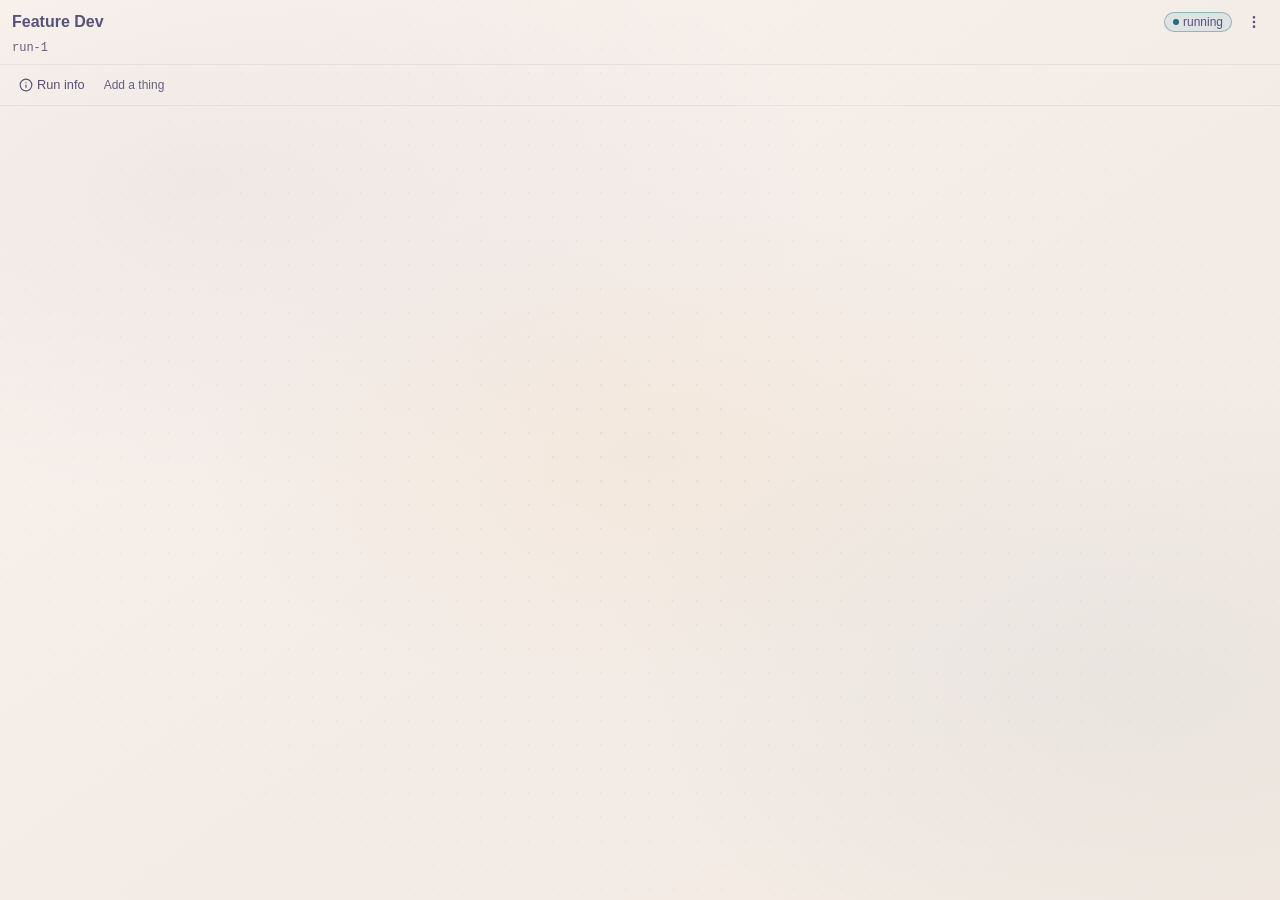
Scenario: RunMonitorPage › phone tier › the info button opens the run-info-sheet
The width and height of the screenshot is (1280, 900).
Click the button with test id "run-info-open-button" at {"x": 54, "y": 85}, box [12,71,96,99]
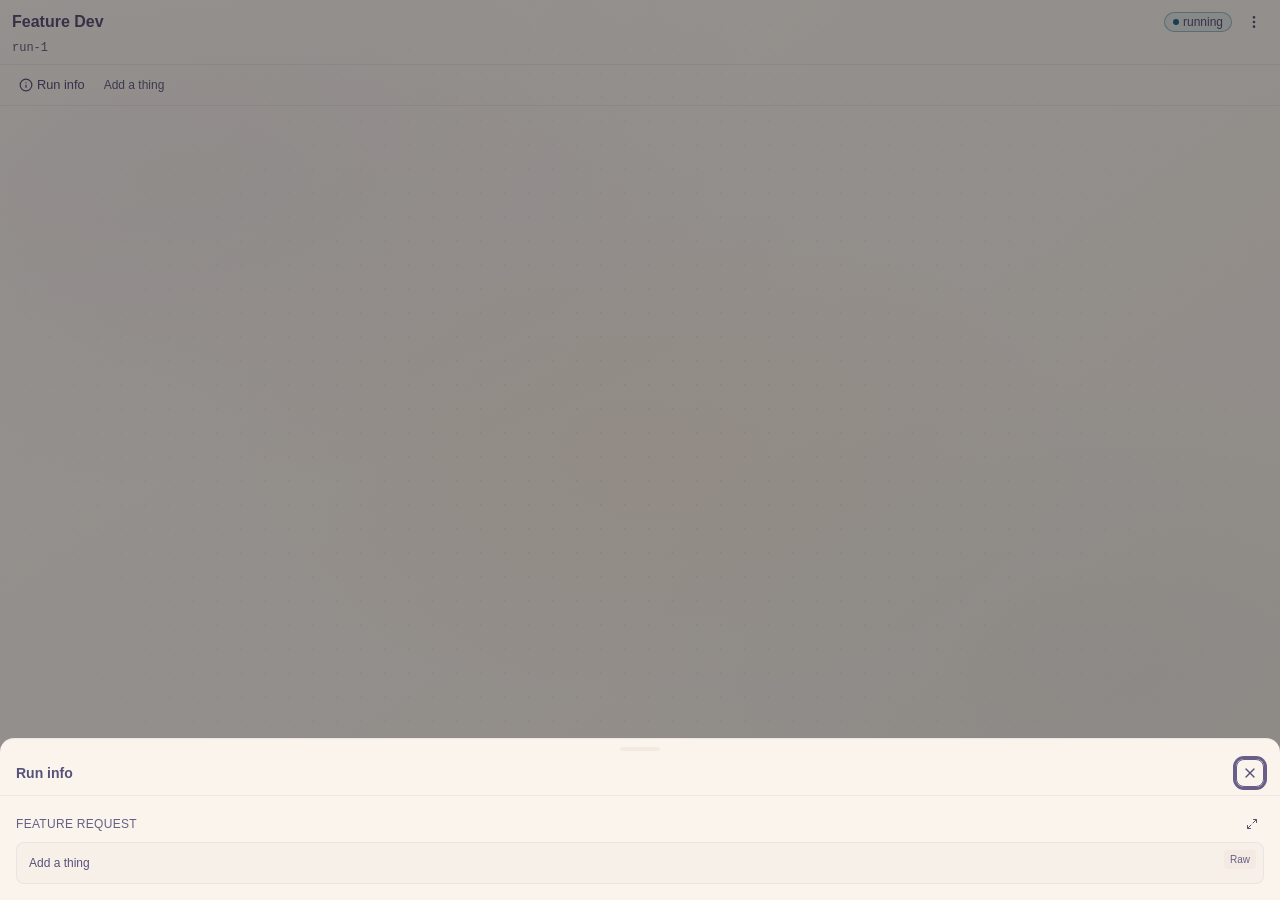
Now the dialog with test id "run-info-sheet" is shown, box [0,738,1279,899]
